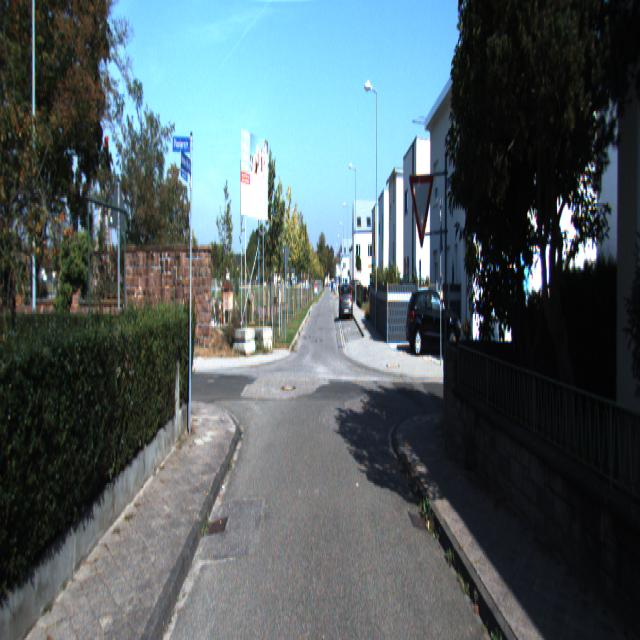Car: (406, 282, 464, 358), (339, 282, 353, 319)
